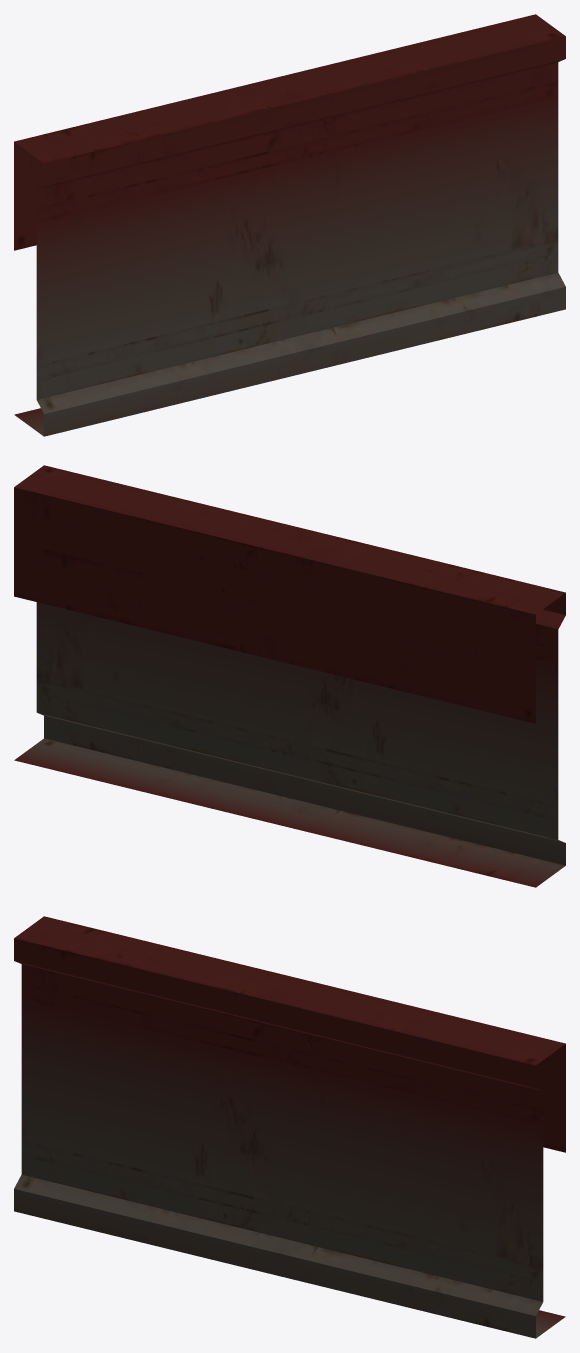
Rendered from Cornice_Metal_Center.glb.
3 views of the same model, one above another, from view 1: azimuth 30°, elevation 25°; view 2: azimuth 150°, elevation 25°; view 3: azimuth 330°, elevation 25° (orthographic).
Visible parts, largest first — view 1: Cornice_Metal_Center; view 2: Cornice_Metal_Center; view 3: Cornice_Metal_Center.
Part boxes in pixels (x1,y1,x2,y2): Cornice_Metal_Center: (14,14,565,436); Cornice_Metal_Center: (14,465,565,887); Cornice_Metal_Center: (14,916,565,1338).
Size of the model in its own units: 2 by 1 by 0.2.
Materials: 1 (1 with a texture image).
